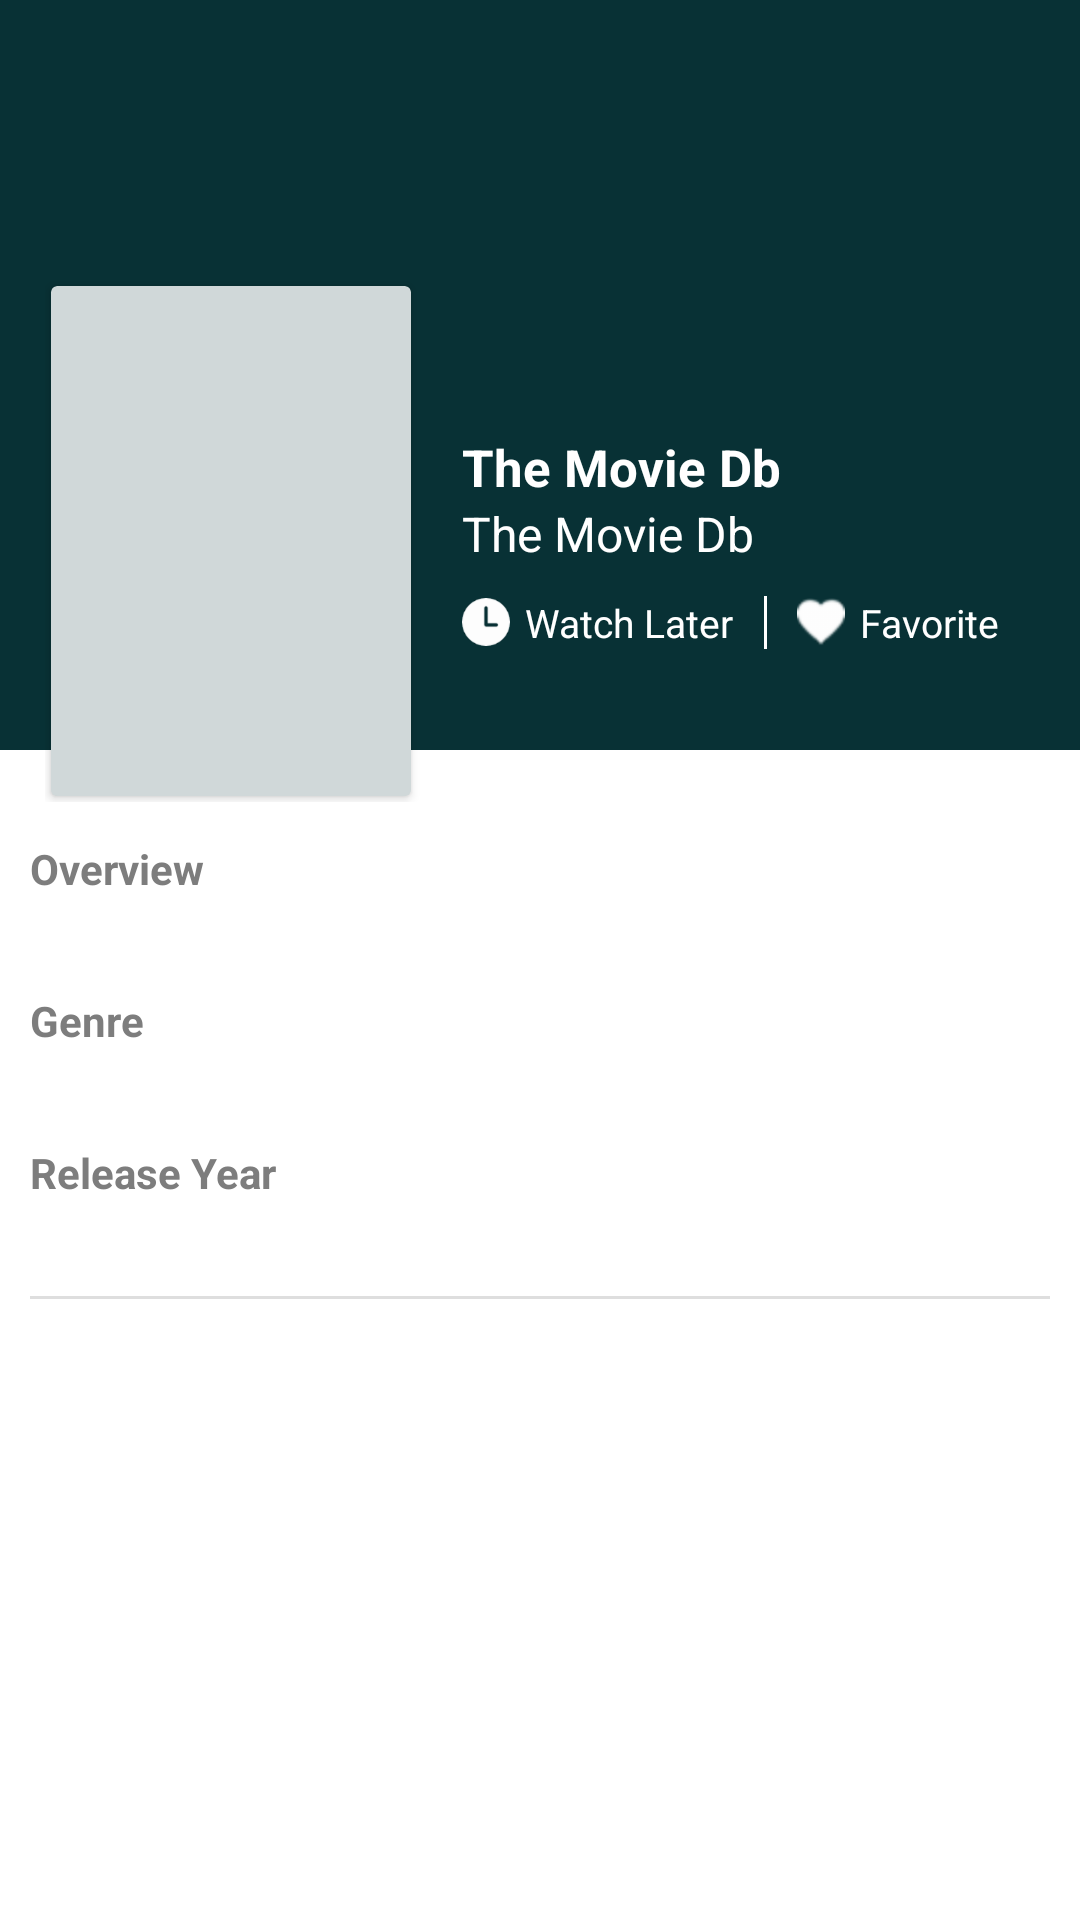

Where to tap for icons on this 1080px x 1920px app screen, as (x,y):
clock: (486,622)
